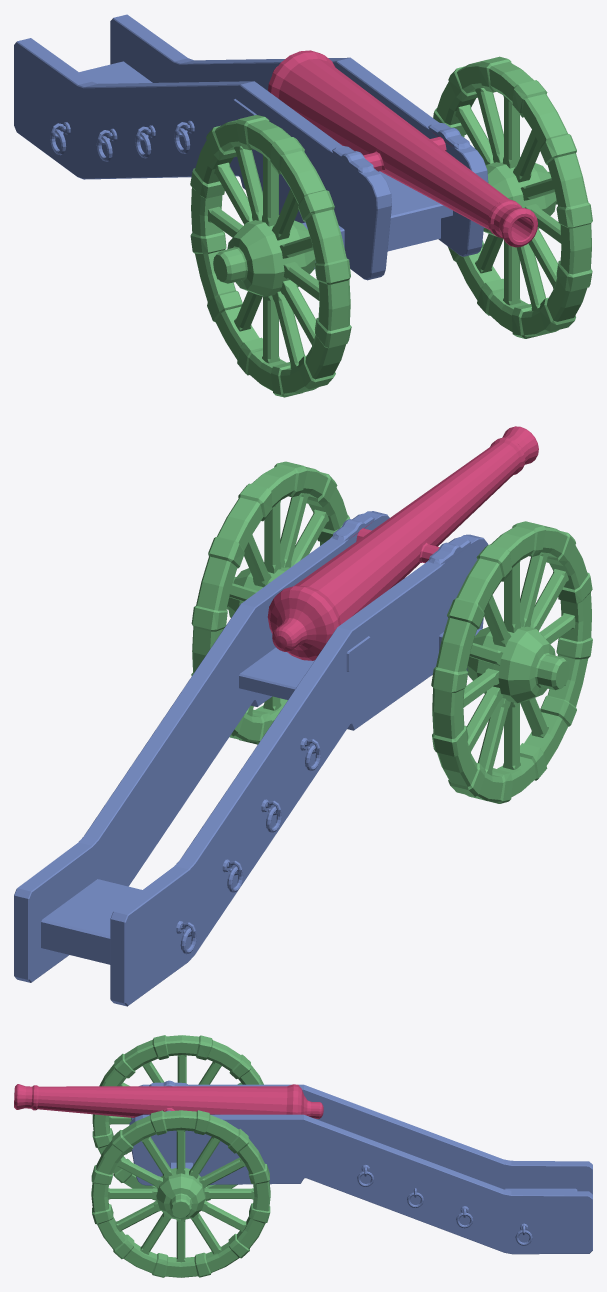
File: full_11_coarse.glb
3 renders of one model, top to bottom at view 1: azimuth 30°, elevation 25°; view 2: azimuth 150°, elevation 25°; view 3: azimuth 270°, elevation 25°, orthographic. The views are drawn at different scales.
Visible parts, largest first — view 1: world; view 2: world; view 3: world.
Part boxes in pixels (bbox=[...]): world: bbox=[14, 14, 592, 397]; world: bbox=[14, 426, 592, 1006]; world: bbox=[14, 1035, 592, 1277].
Size of the model in its own units: 0.3838 by 0.2729 by 0.8822.
